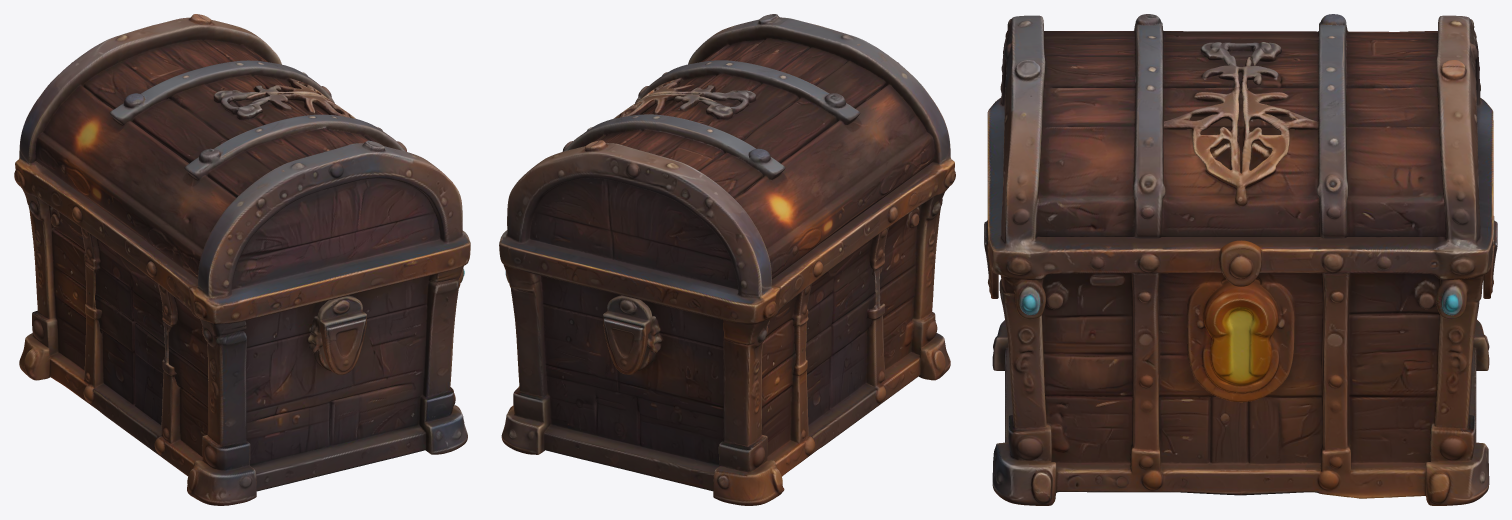
Rendered from صندوق_الغنائم.glb.
3 renders of one model, left to right at view 1: azimuth 30°, elevation 25°; view 2: azimuth 150°, elevation 25°; view 3: azimuth 270°, elevation 25°, orthographic. The views are drawn at different scales.
Parts seen in each view (by area): view 1: tripo_node_9a708171-ed0f-43ee-aa9f-a1a59adb84cf; view 2: tripo_node_9a708171-ed0f-43ee-aa9f-a1a59adb84cf; view 3: tripo_node_9a708171-ed0f-43ee-aa9f-a1a59adb84cf.
Part boxes in pixels (x1,y1,x2,y2): tripo_node_9a708171-ed0f-43ee-aa9f-a1a59adb84cf: [14, 14, 470, 505]; tripo_node_9a708171-ed0f-43ee-aa9f-a1a59adb84cf: [499, 14, 955, 505]; tripo_node_9a708171-ed0f-43ee-aa9f-a1a59adb84cf: [984, 14, 1497, 505].
Size of the model in its own units: 0.7594 by 0.8365 by 1.
1 material, 1 textured.
